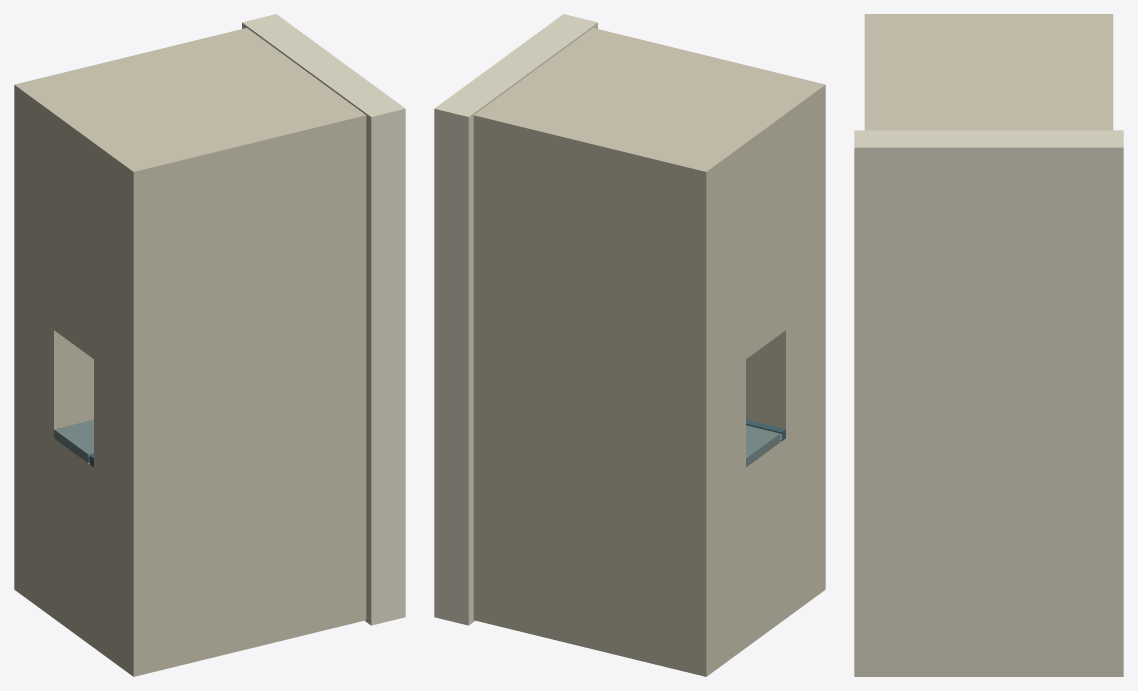
File: LevelExit.002.fbx
The picture shows the model from 3 angles, left to right: view 1: azimuth 30°, elevation 25°; view 2: azimuth 150°, elevation 25°; view 3: azimuth 270°, elevation 25°; orthographic projection. The views are drawn at different scales.
Parts seen in each view (by area): view 1: LevelExit.002; view 2: LevelExit.002; view 3: LevelExit.002.
Boxes of the visible parts, x1=… form: LevelExit.002: x1=14, y1=14, x2=405, y2=676; LevelExit.002: x1=434, y1=14, x2=825, y2=676; LevelExit.002: x1=854, y1=14, x2=1123, y2=676.
Bounding box in the file's own units: 3100 × 5640 × 2600.
